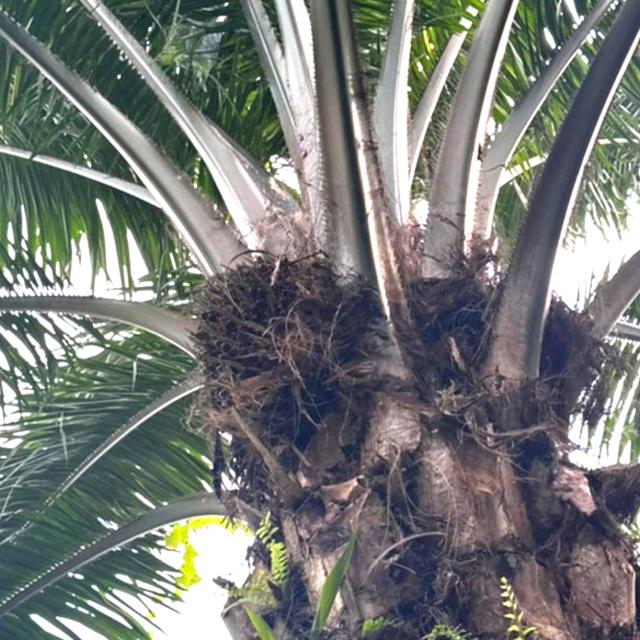ripe: (168, 239, 382, 432)
